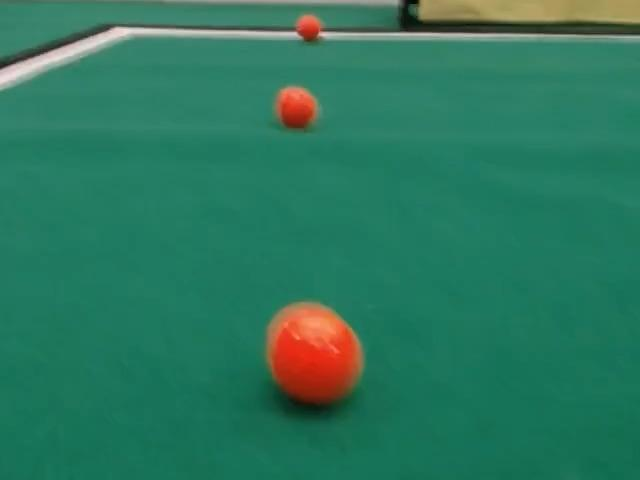Ball: (266, 302, 363, 405), (275, 88, 317, 128), (295, 14, 322, 41)
